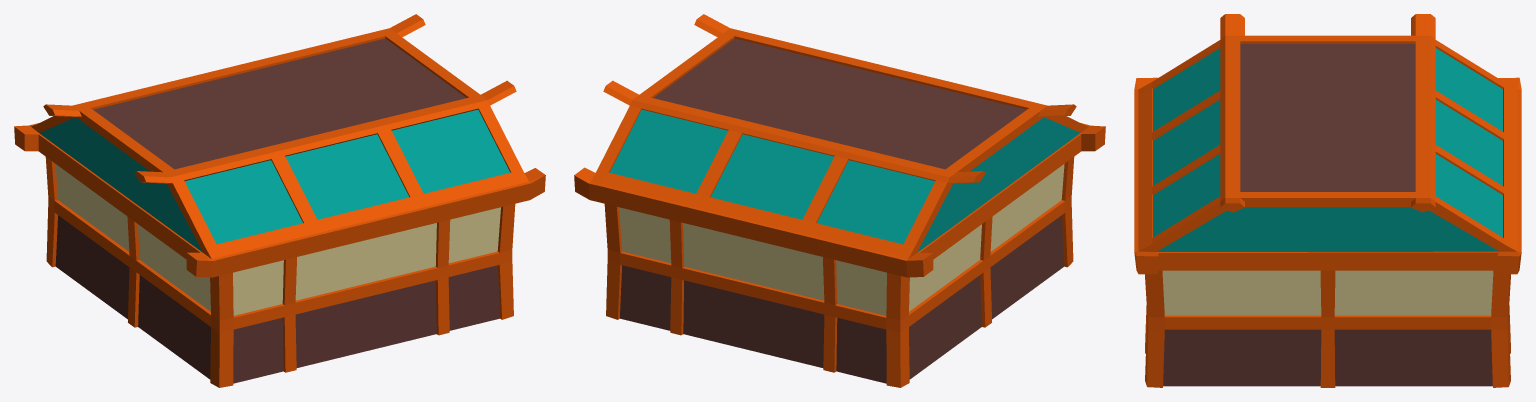
Rendered from GEO_hut_medium_2.fbx.
The picture shows the model from 3 angles, left to right: view 1: azimuth 30°, elevation 25°; view 2: azimuth 150°, elevation 25°; view 3: azimuth 270°, elevation 25°; orthographic projection. The views are drawn at different scales.
Parts seen in each view (by area): view 1: GEO_hut_medium_2; view 2: GEO_hut_medium_2; view 3: GEO_hut_medium_2.
Part boxes in pixels (bbox=[...]): GEO_hut_medium_2: bbox=[14, 14, 545, 387]; GEO_hut_medium_2: bbox=[574, 14, 1105, 387]; GEO_hut_medium_2: bbox=[1134, 14, 1521, 387].
Bounding box in the file's own units: 845 × 423 × 731.
